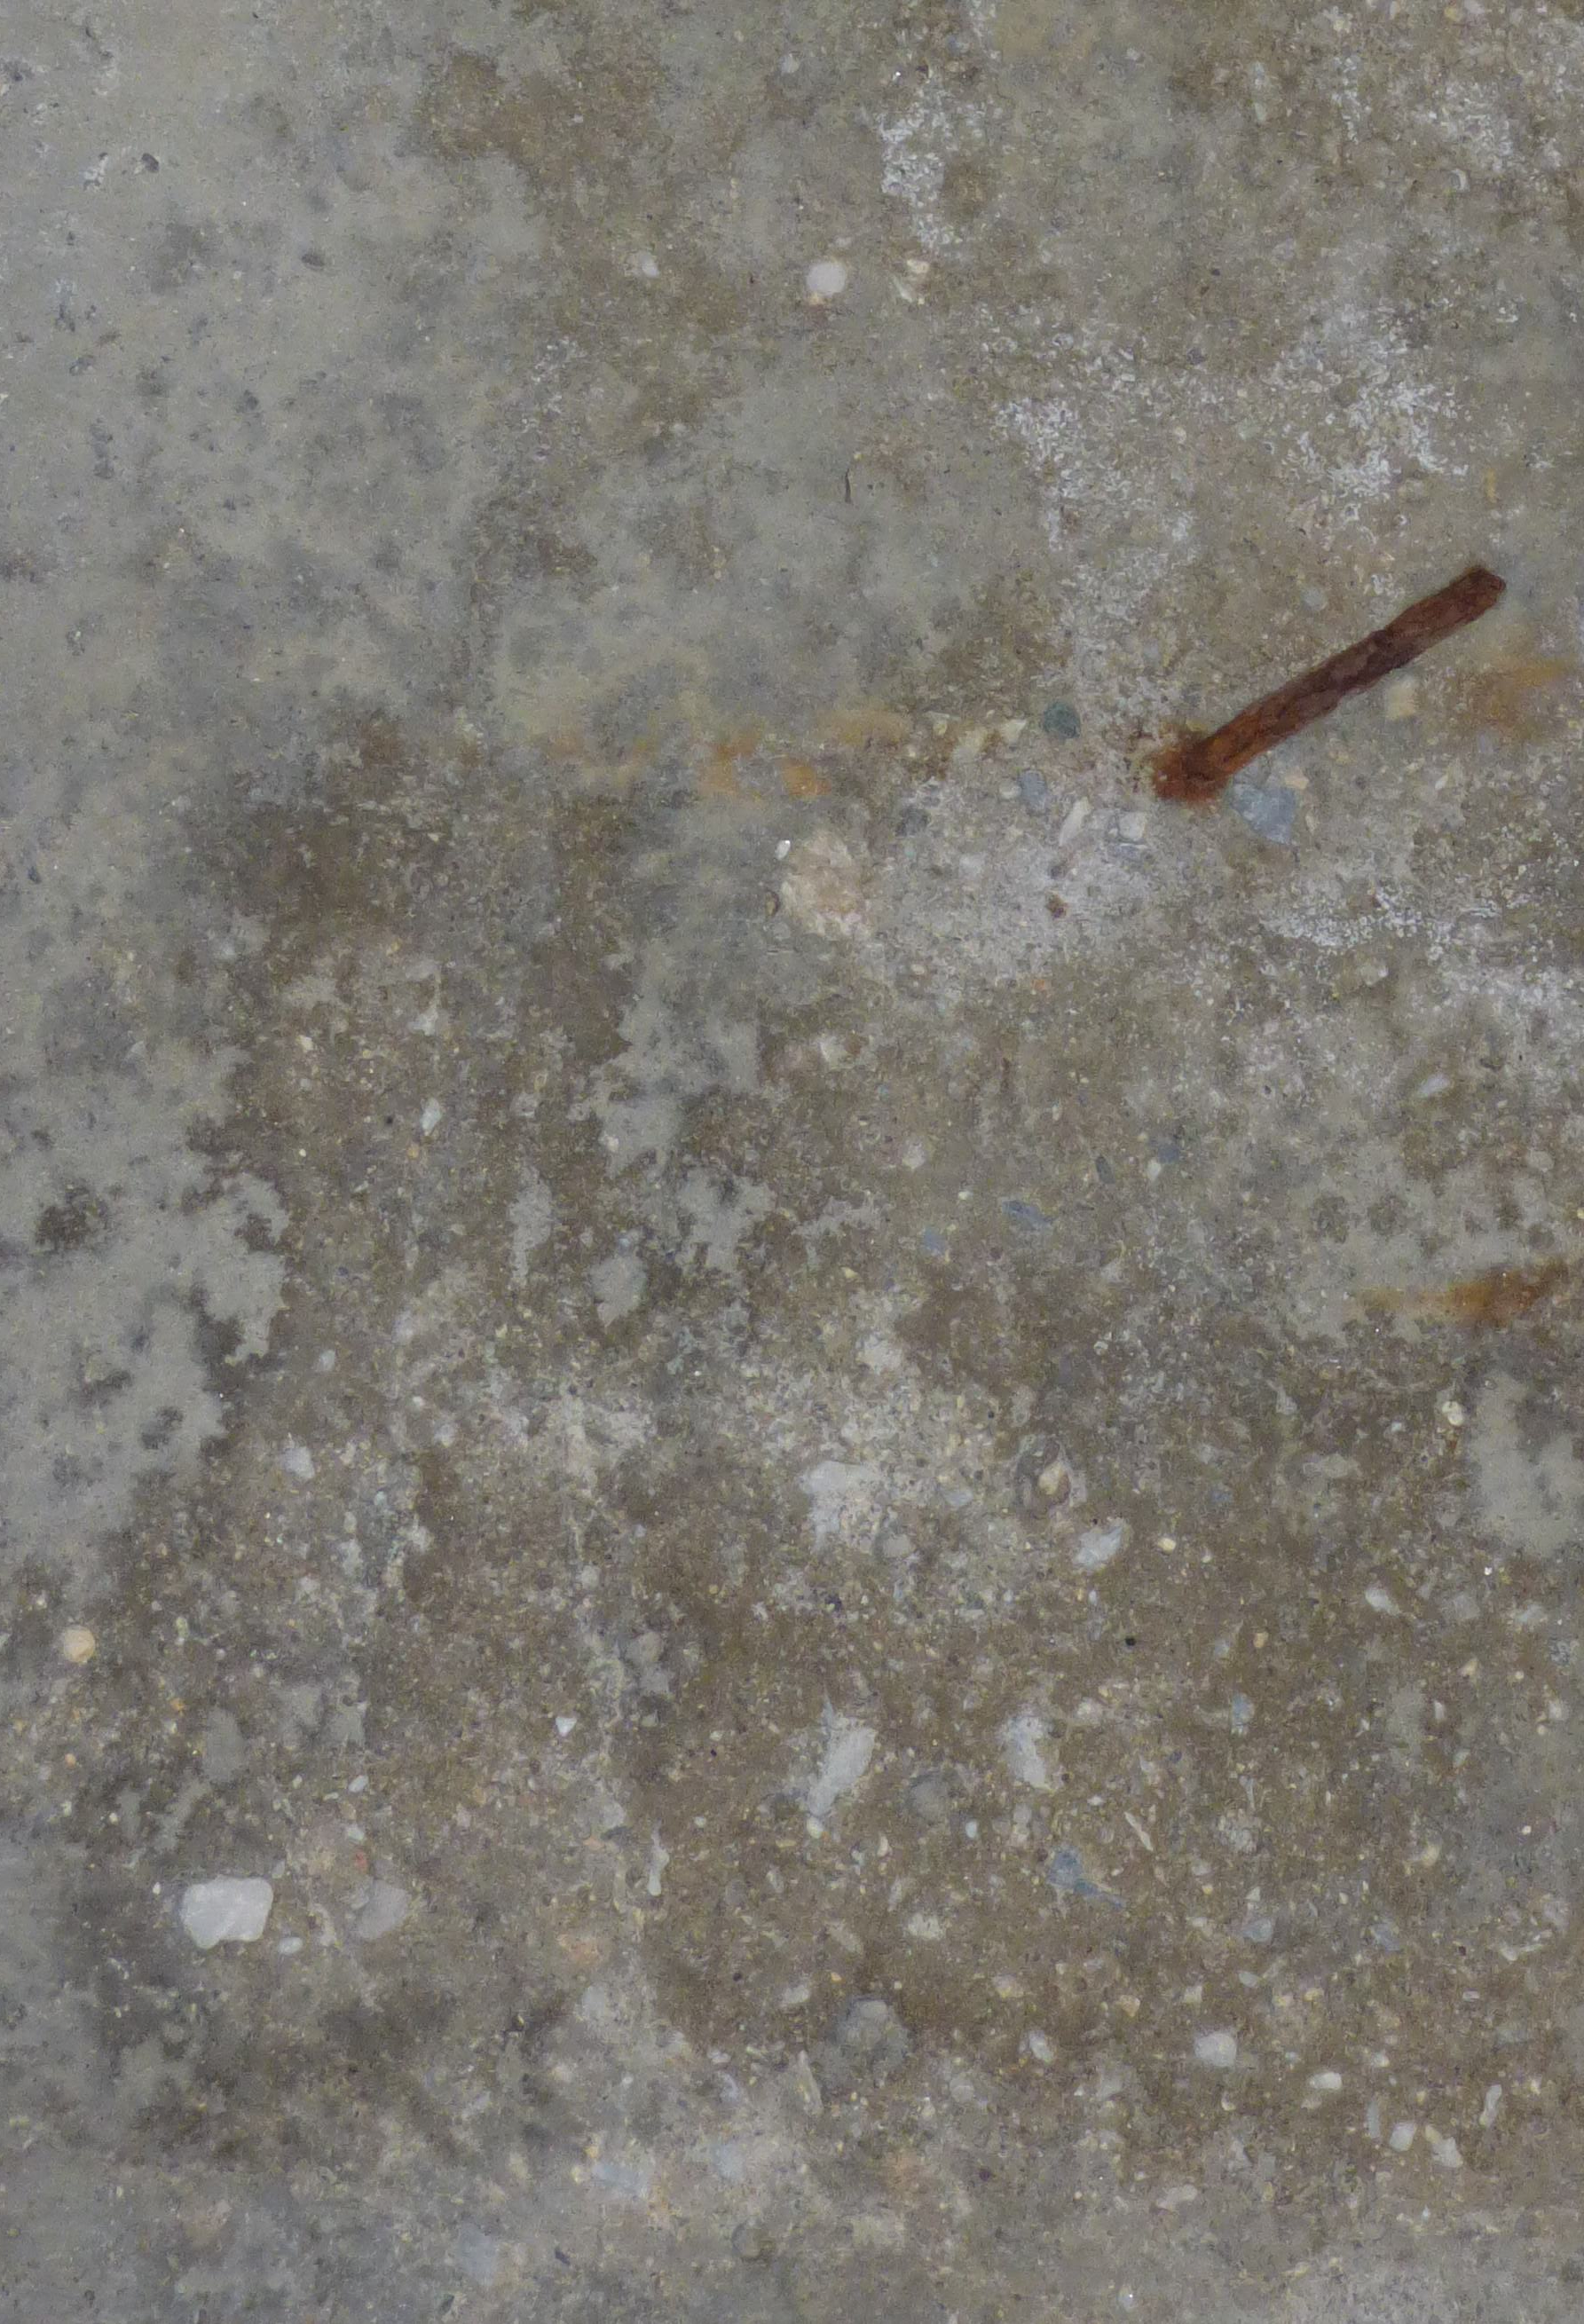Corrosion: (1151, 731, 1224, 804)
Exposed reinforcement: (1187, 567, 1508, 784)
